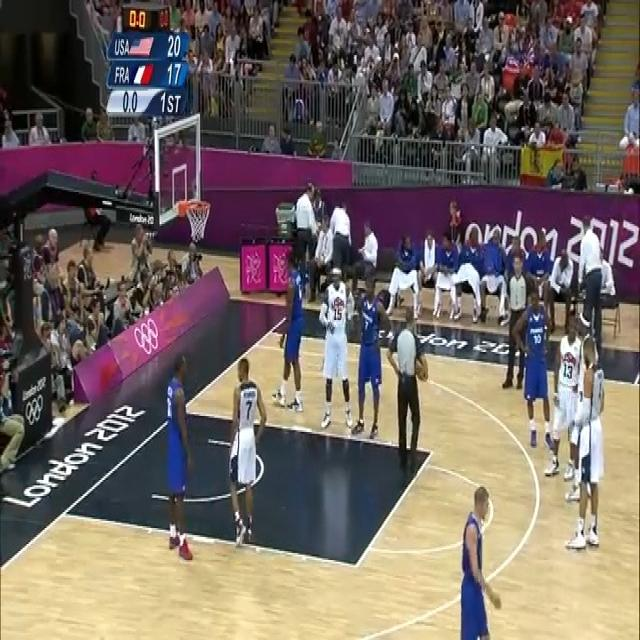basketball: (415, 357, 427, 384)
hoop: (183, 206, 210, 240)
person: (568, 326, 605, 552), (226, 356, 264, 542), (518, 282, 555, 444), (165, 352, 194, 554), (352, 278, 386, 440), (320, 266, 352, 430), (392, 304, 423, 466), (276, 250, 306, 411), (501, 250, 530, 390), (292, 182, 321, 302), (546, 143, 587, 191), (330, 202, 352, 270), (29, 112, 51, 146), (82, 107, 101, 143), (261, 123, 281, 154), (280, 126, 295, 156)
